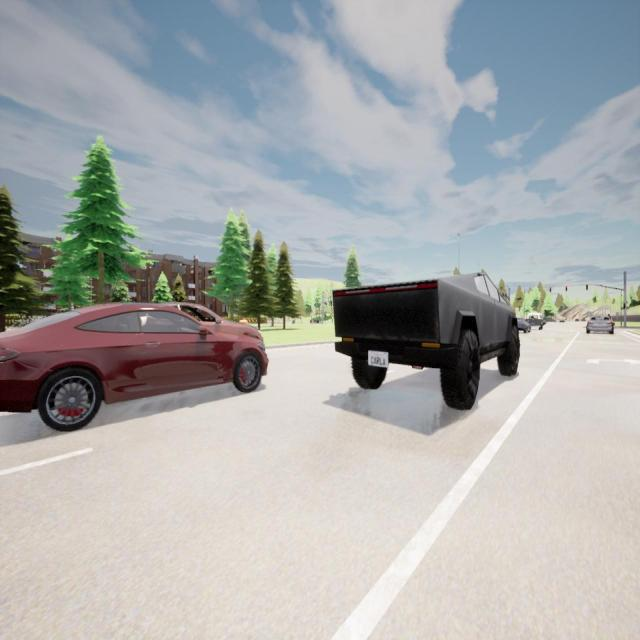Vehicle: (0, 304, 268, 430), (333, 271, 520, 409), (167, 303, 263, 340), (586, 314, 615, 335), (526, 313, 547, 330), (518, 317, 531, 334), (560, 318, 564, 322), (575, 319, 578, 321)
traffic_light: (624, 302, 626, 309), (586, 284, 588, 290), (550, 286, 551, 293), (566, 286, 567, 292)
